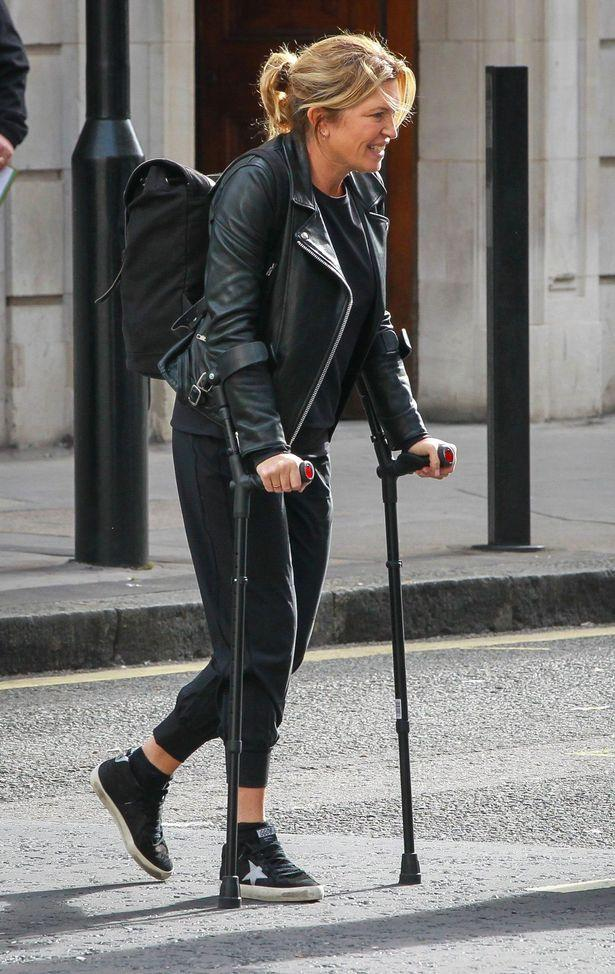crutches: (88, 33, 459, 910)
